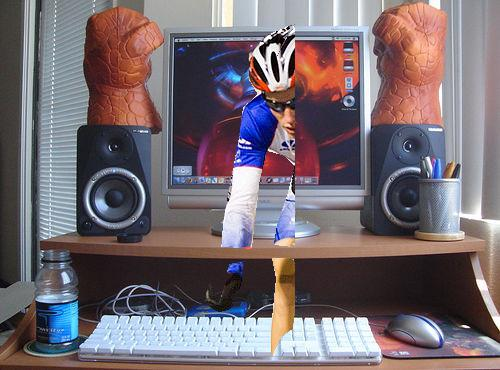tampered: (207, 23, 295, 357)
